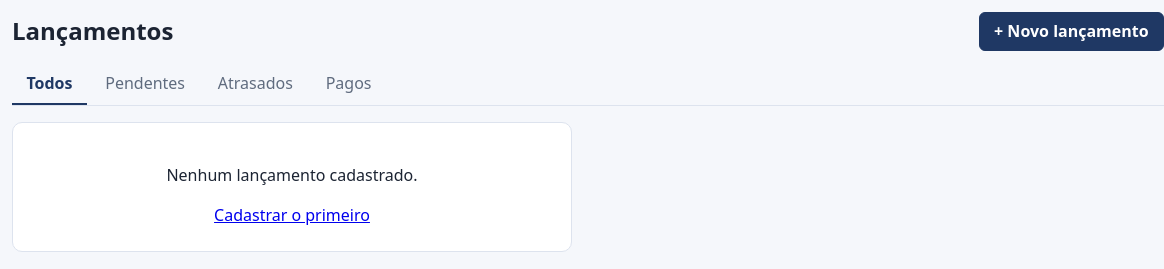
Scenario: LancamentosPage › aba "Pendentes" filtra pelos status corretos e fica na URL
Check: the text "Nenhum lançamento cadastrado." is shown, box [166,164,418,186]
Step 1. Click the tab "Pendentes" → (145, 84), box [91,63,199,105]
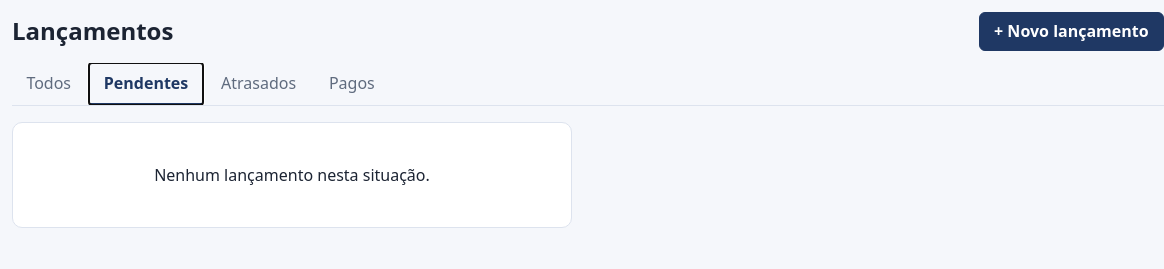
Check: the text "Nenhum lançamento nesta situação." is shown, box [154,164,430,186]
